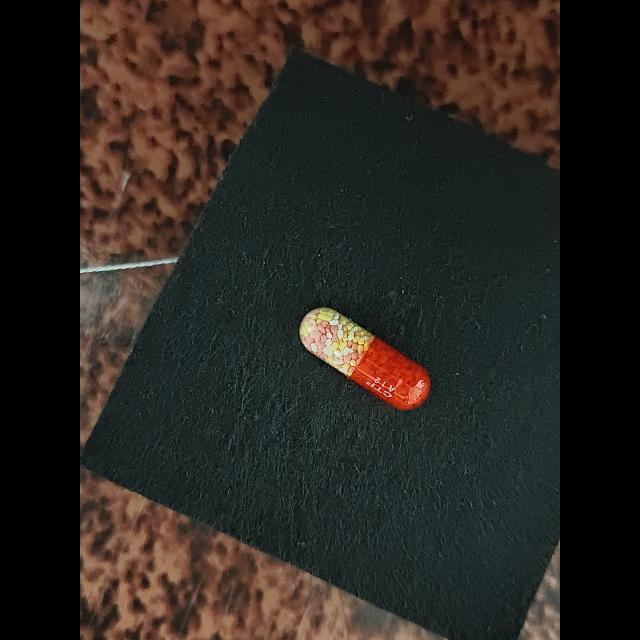Intact Capsule: (299, 307, 431, 410)
